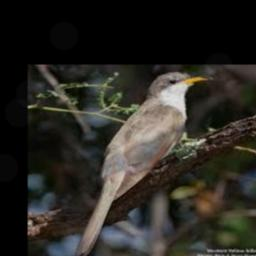Cuckoo: (75, 72, 212, 256)
